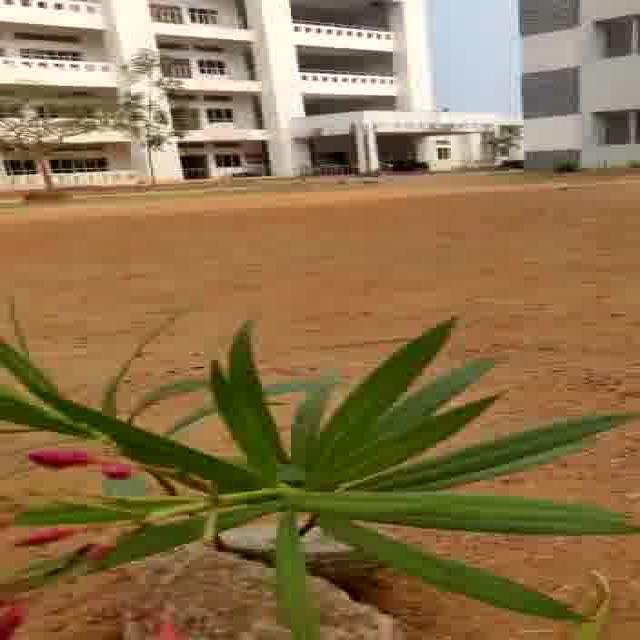Oleander: (0, 304, 624, 613)
